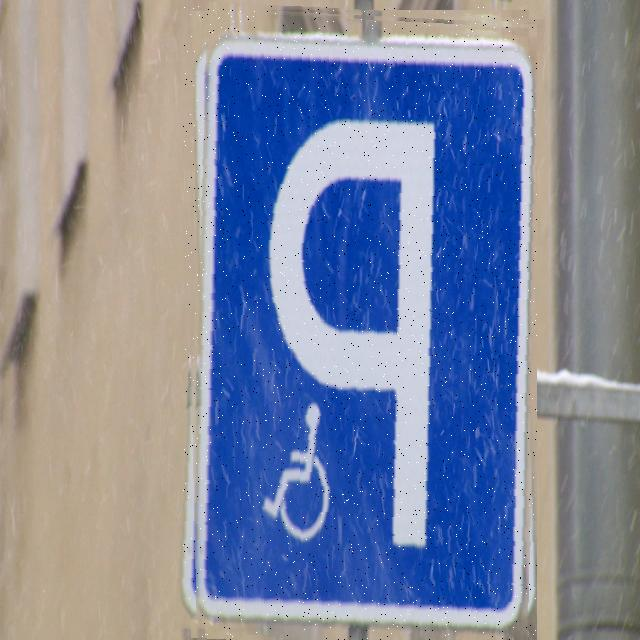parking: (183, 6, 537, 640)
